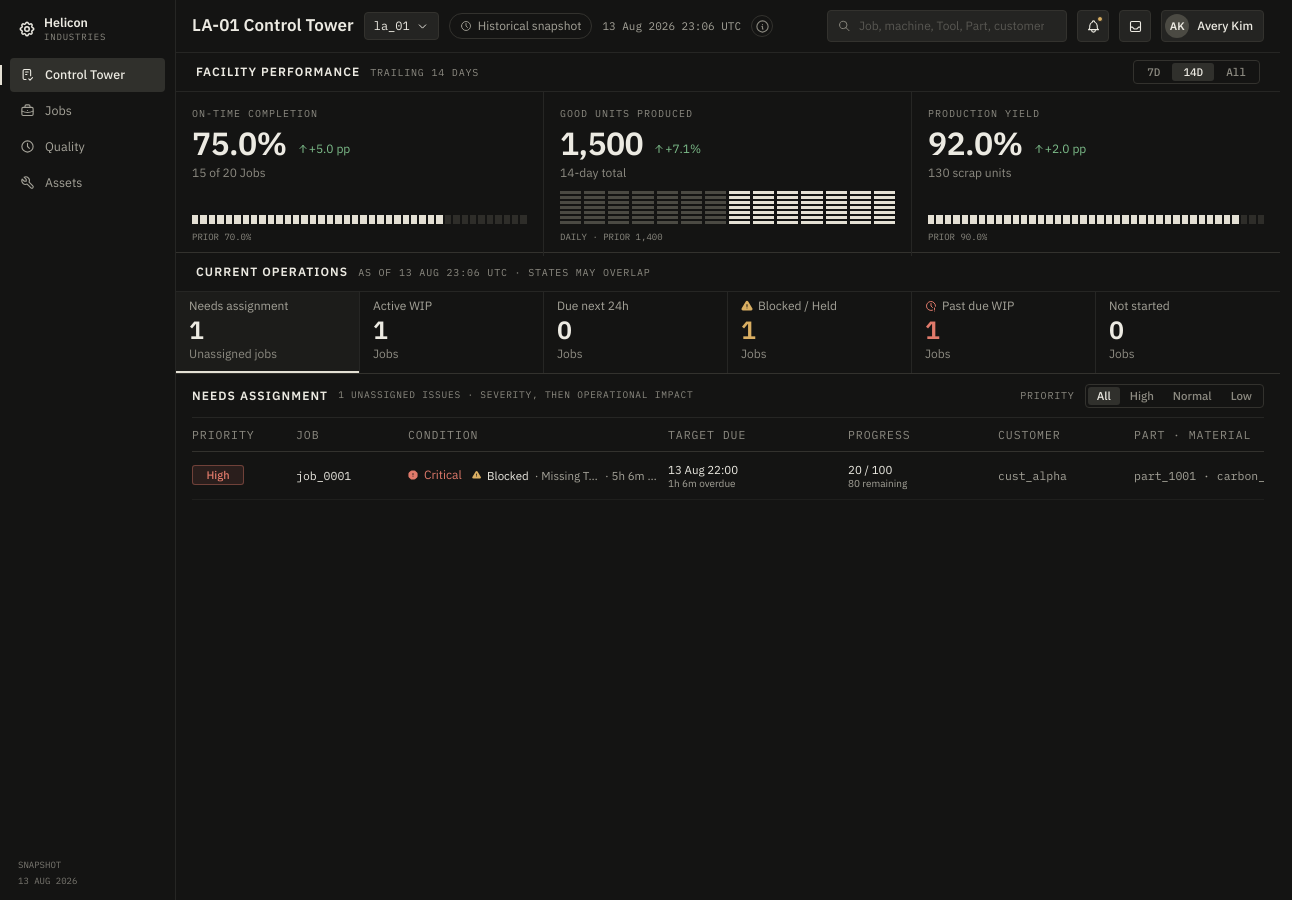
Test: ControlTowerScreen › selects every focused view, keeps the URL addressable, and renders empty states
Click the tab "Not started 0 Jobs" at (1188, 332), box top-left (1096, 292), bottom-right (1280, 373)
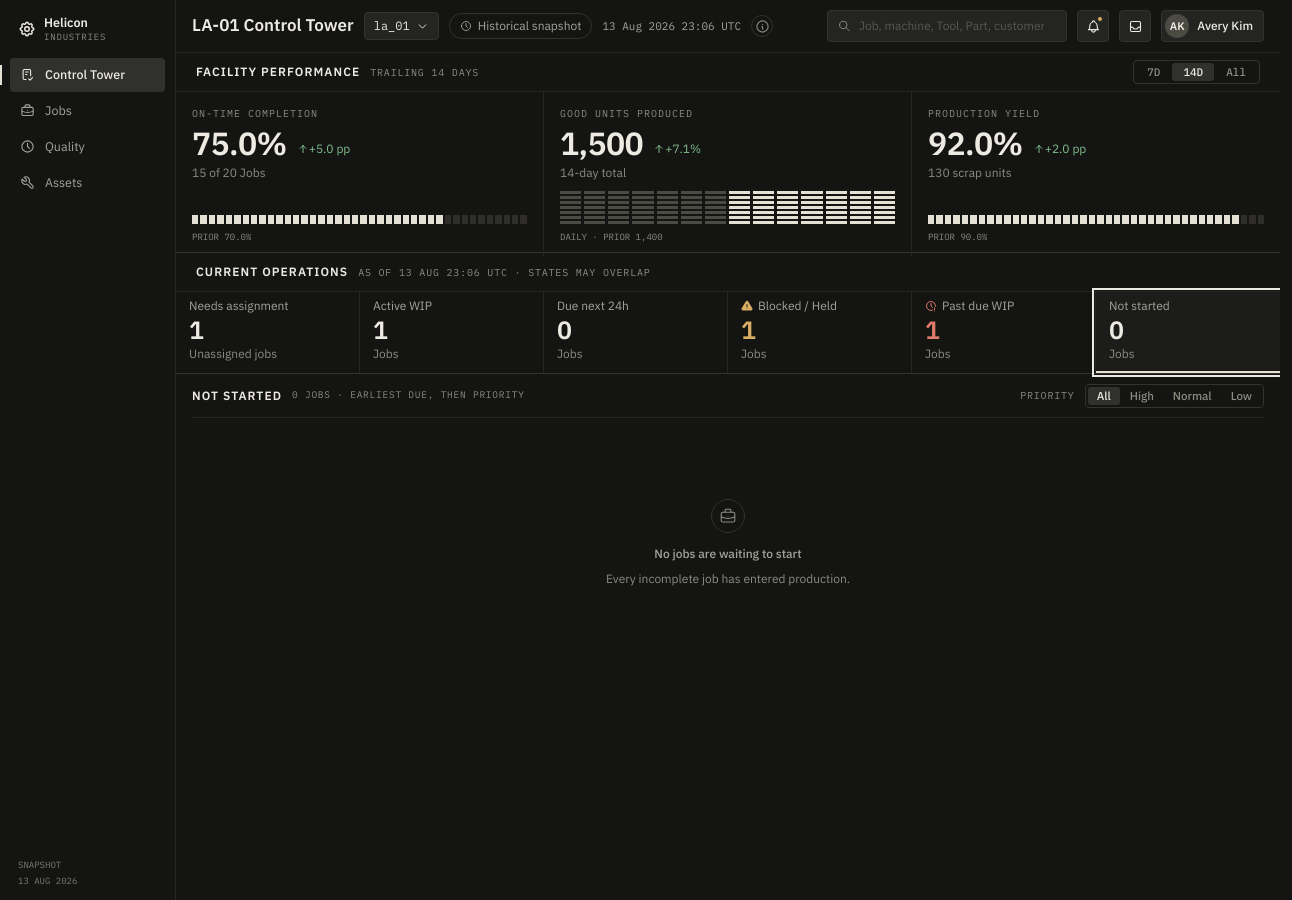
Click the tab "Active WIP 1 Jobs" at (452, 332), box top-left (360, 292), bottom-right (544, 373)
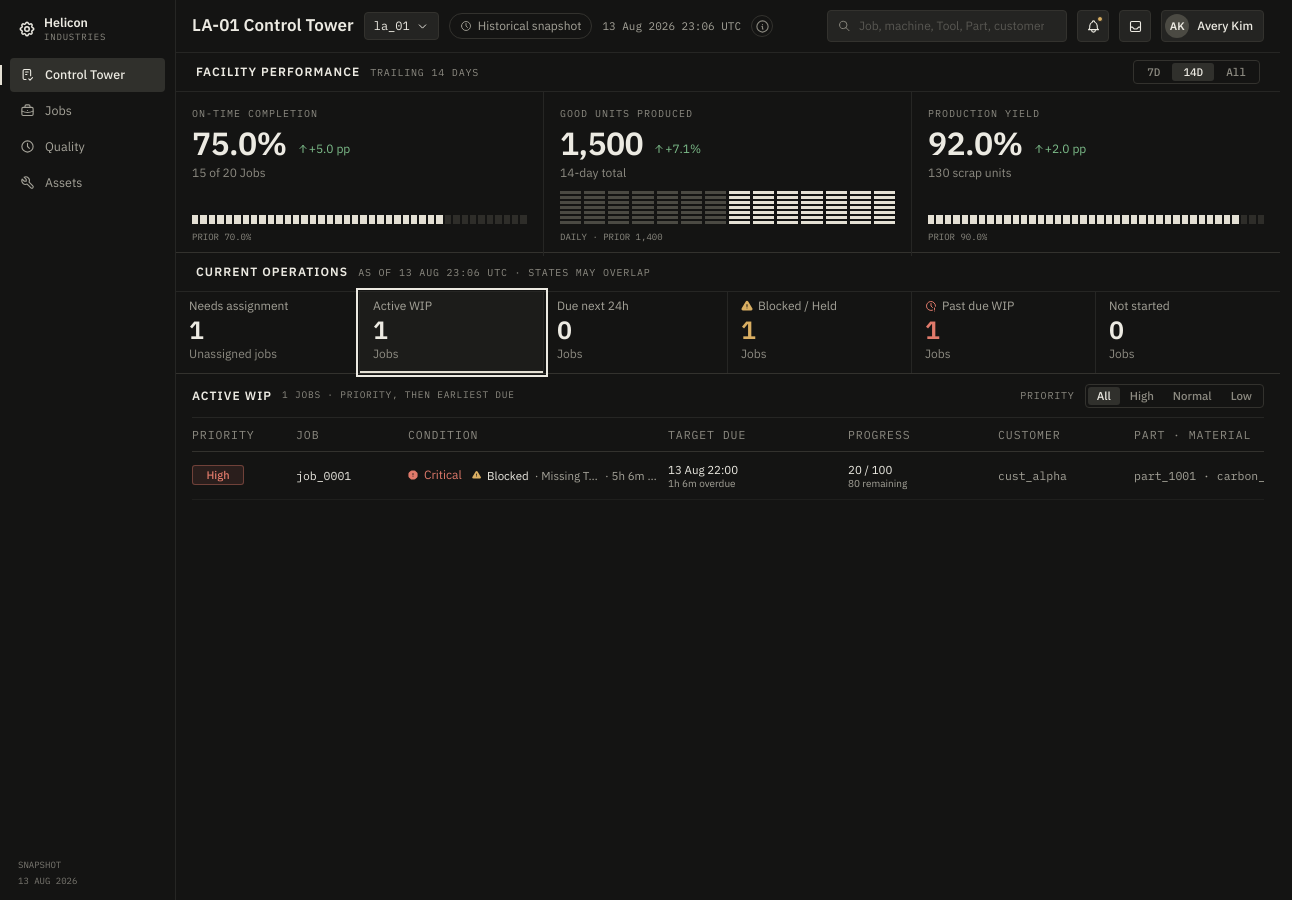
Click the tab "Due next 24h 0 Jobs" at (636, 332), box top-left (544, 292), bottom-right (728, 373)
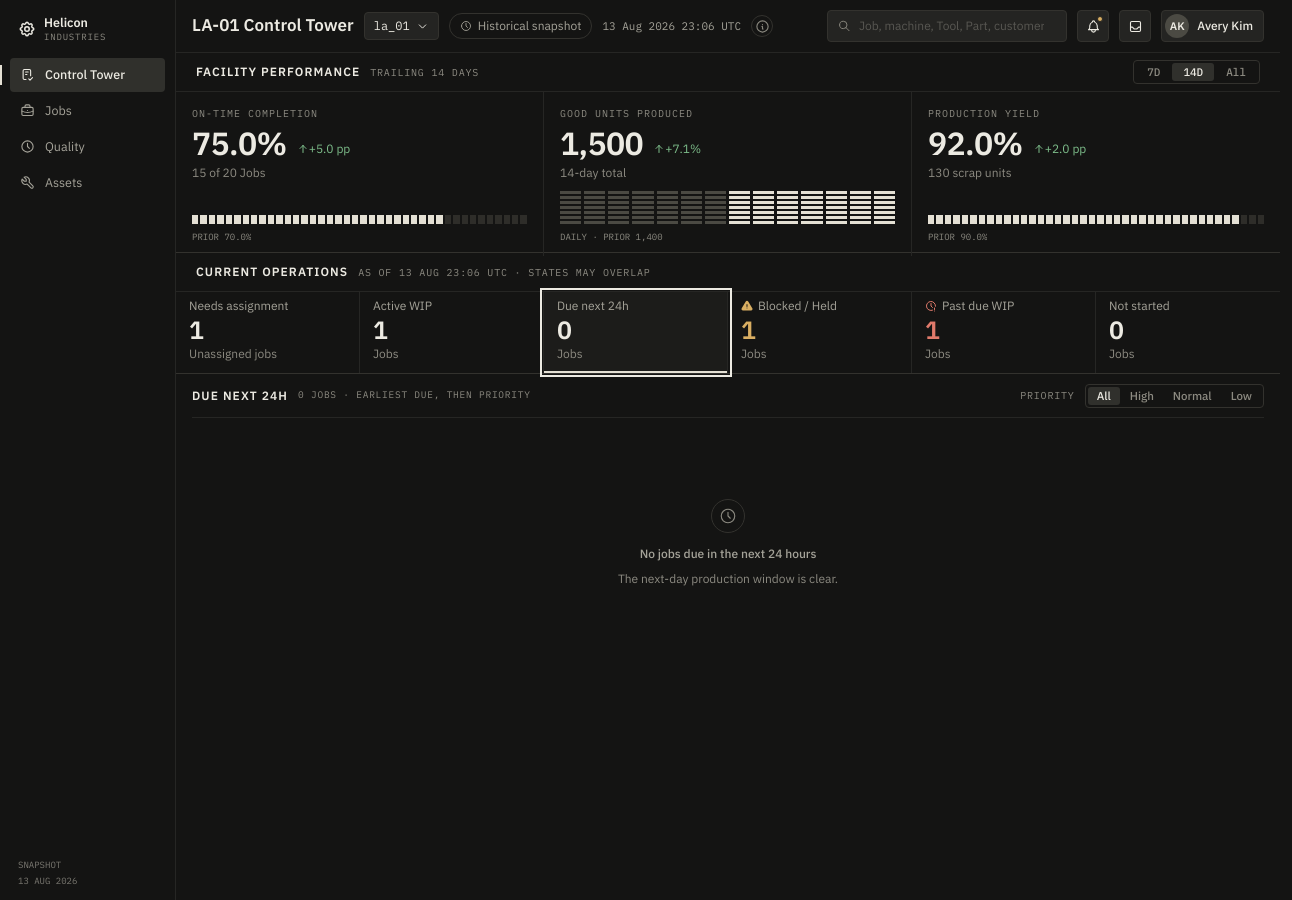
Check: the tab "Due next 24h 0 Jobs" is selected, box top-left (544, 292), bottom-right (728, 373)
Click the tab "Blocked / Held 1 Jobs" at (820, 332), box top-left (728, 292), bottom-right (912, 373)
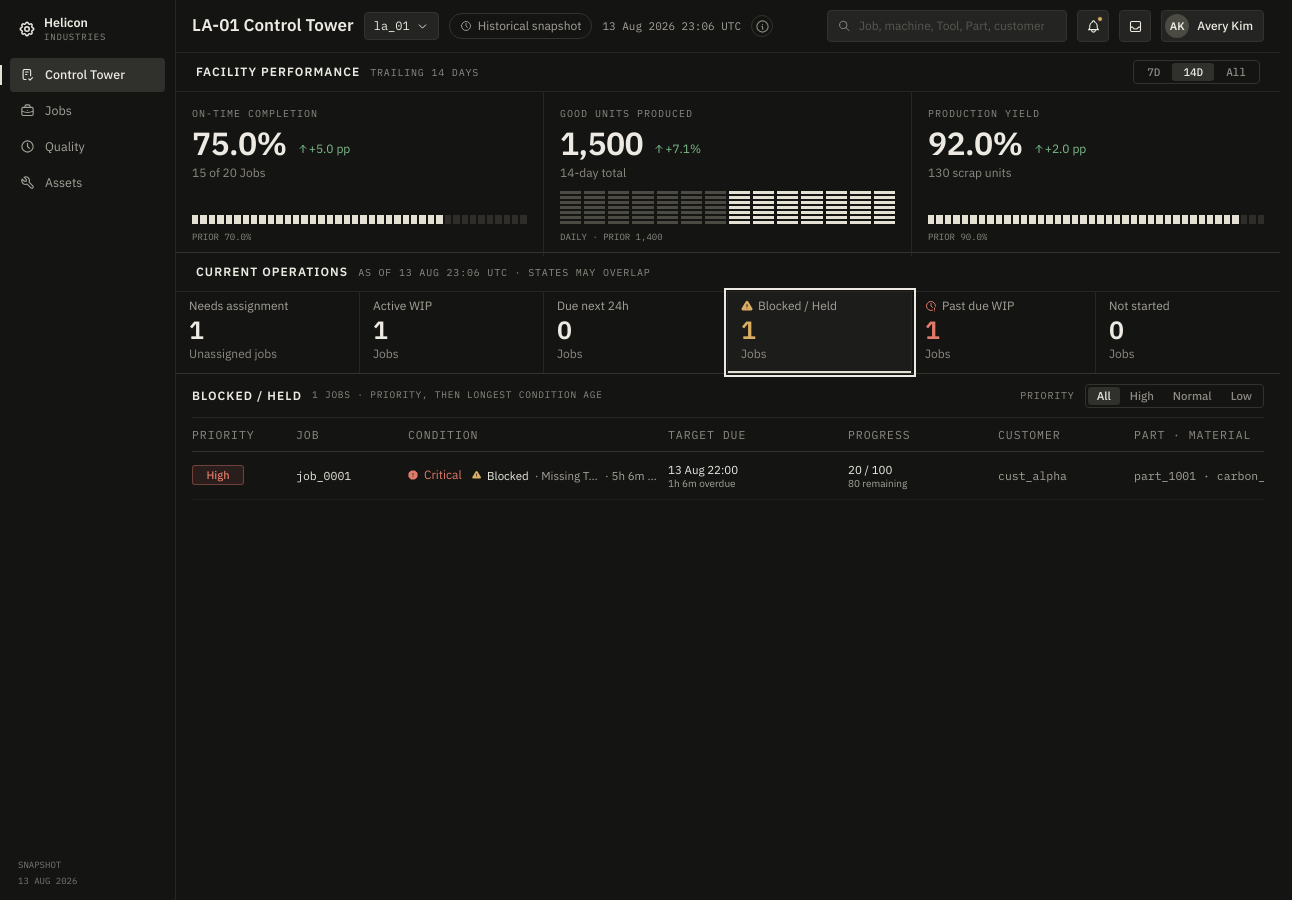
Check: the tab "Blocked / Held 1 Jobs" is selected, box top-left (728, 292), bottom-right (912, 373)
Click the tab "Past due WIP 1 Jobs" at (1004, 332), box top-left (912, 292), bottom-right (1096, 373)
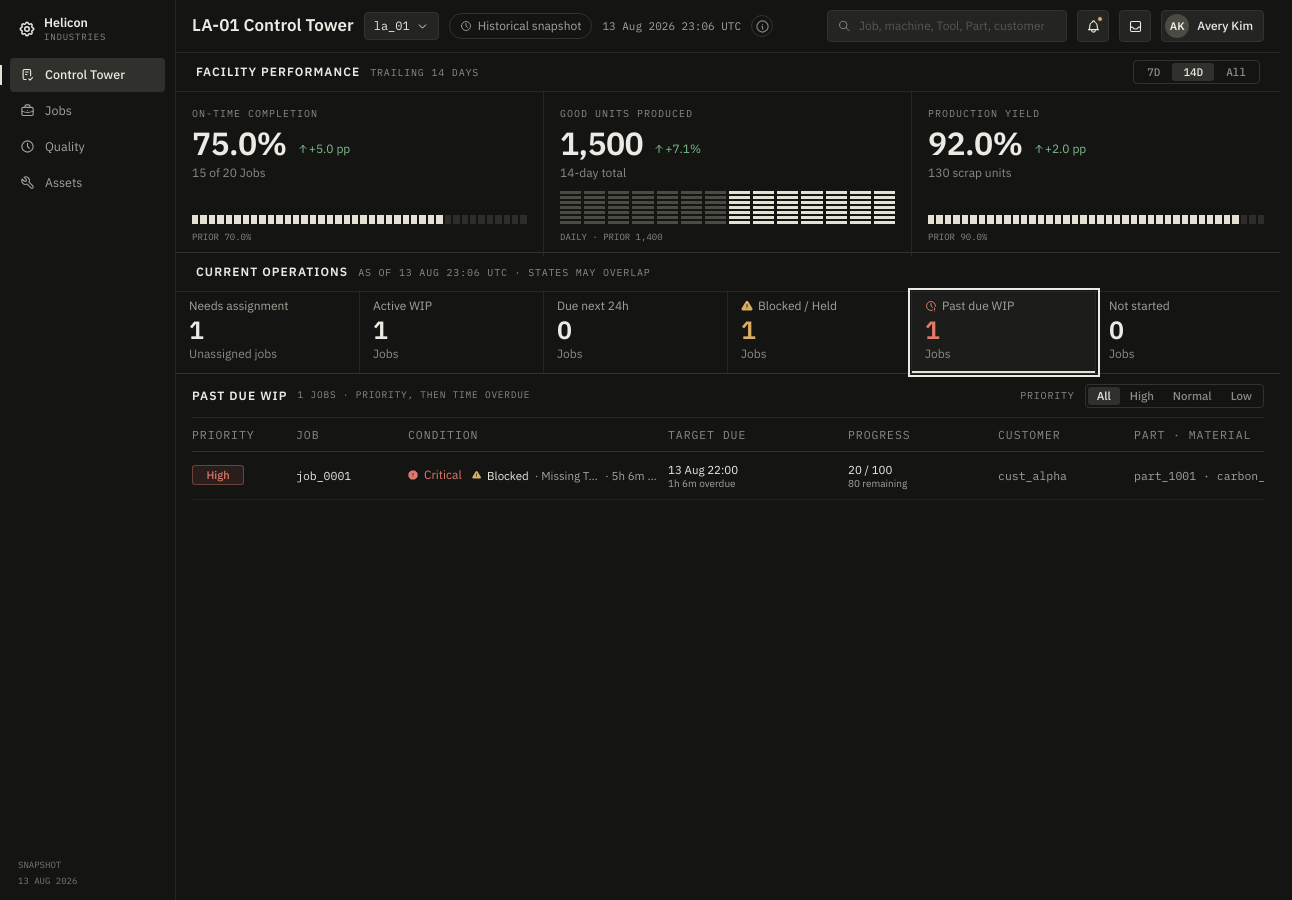
Check: the tab "Past due WIP 1 Jobs" is selected, box top-left (912, 292), bottom-right (1096, 373)
Click the tab "Due next 24h 0 Jobs" at (636, 332), box top-left (544, 292), bottom-right (728, 373)
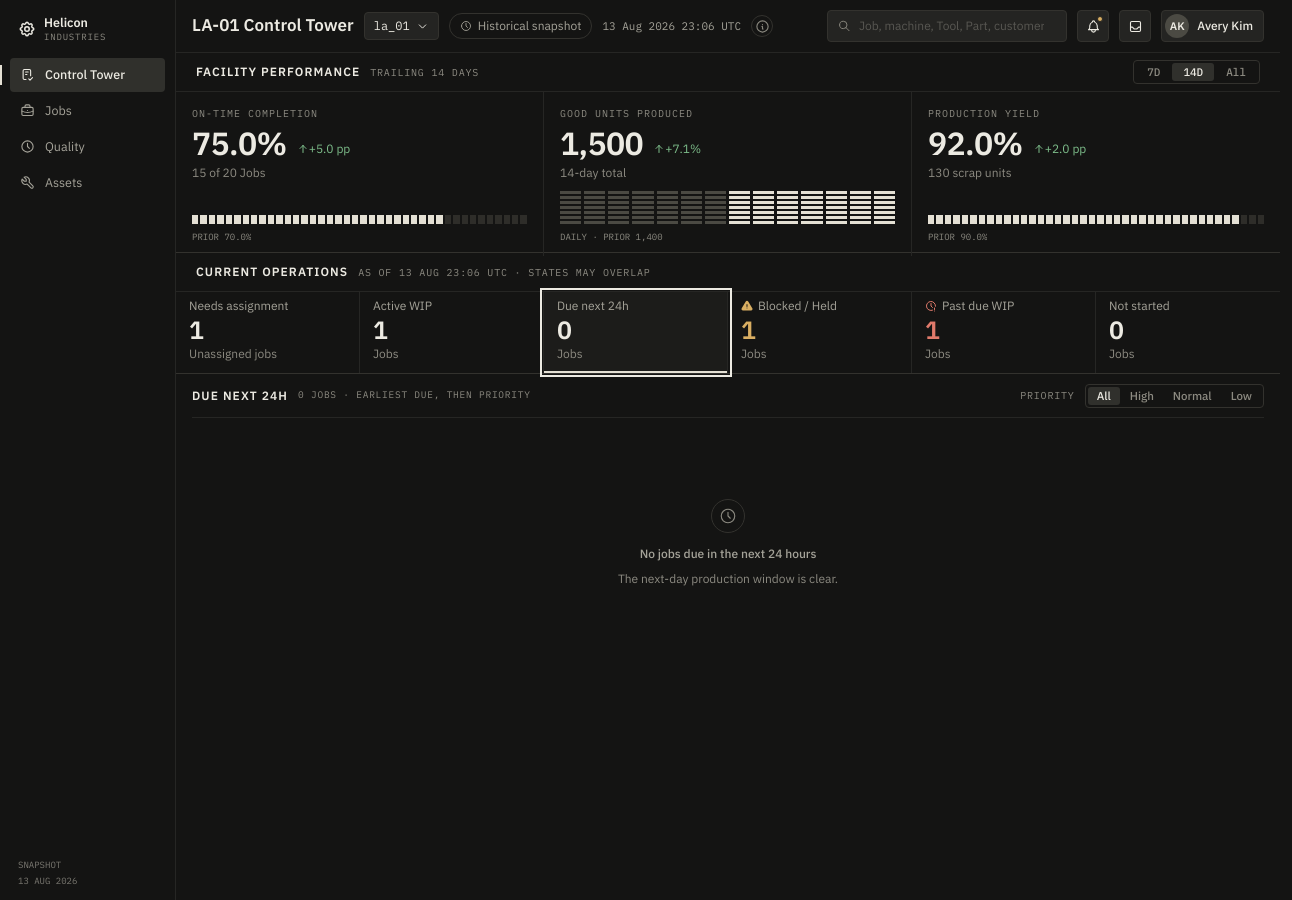
Check: the text "No jobs due in the next 24 hours" is shown, box top-left (640, 544), bottom-right (816, 562)
